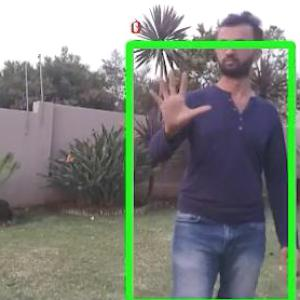follow_hand: (144, 65, 212, 129)
